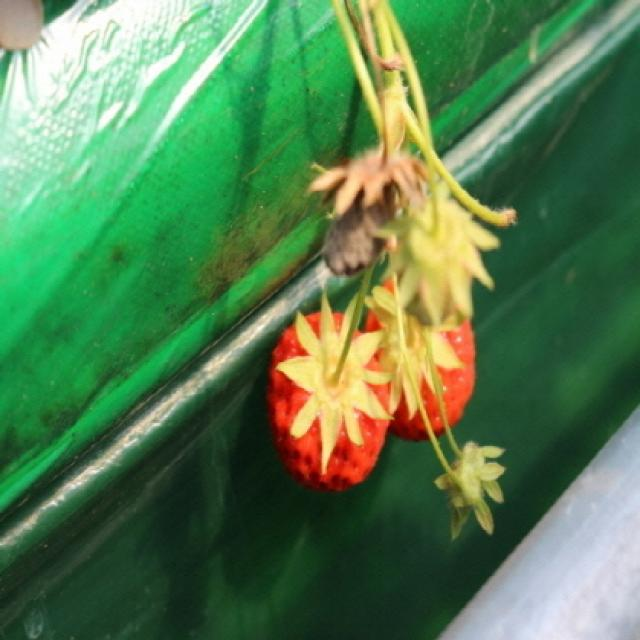Gray Mold: (303, 146, 433, 278)
